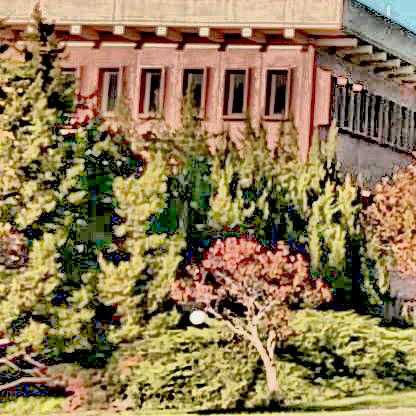golfball: (186, 305, 203, 322)
